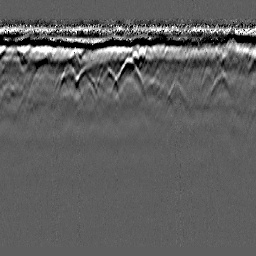cavity: (111, 55, 145, 94)
